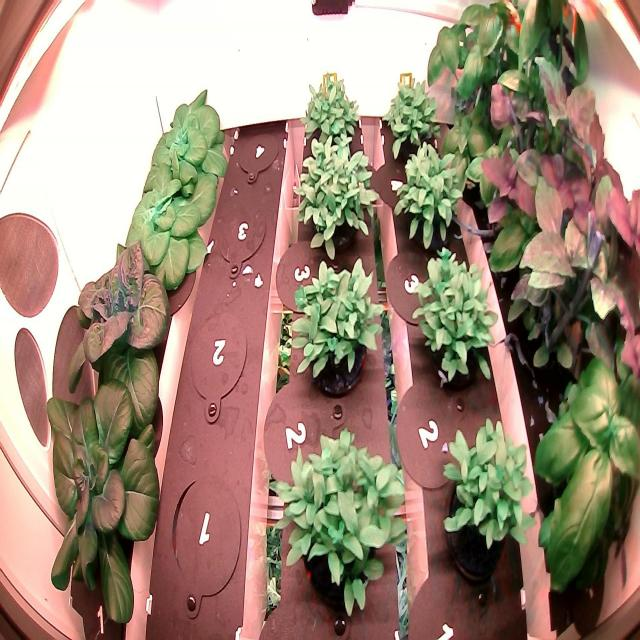empty_pod: (163, 468, 251, 607), (186, 310, 250, 422), (208, 189, 271, 280), (225, 120, 282, 190)
pod: (34, 372, 168, 638), (58, 232, 176, 458)
young: (114, 167, 220, 295), (142, 86, 228, 191)
